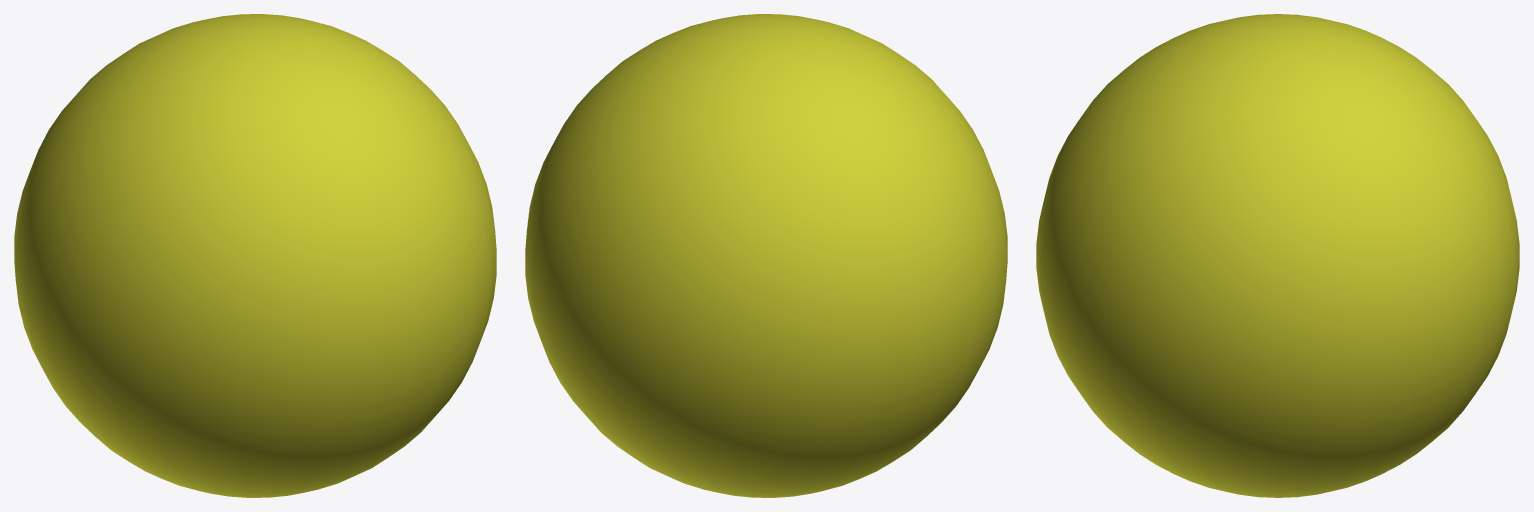
The model's file is sphere_smooth_origin.obj.
The picture shows the model from 3 angles, left to right: view 1: azimuth 30°, elevation 25°; view 2: azimuth 150°, elevation 25°; view 3: azimuth 270°, elevation 25°; orthographic projection.
Parts seen in each view (by area): view 1: Sphere_Sphere.001; view 2: Sphere_Sphere.001; view 3: Sphere_Sphere.001.
Part boxes in pixels (left/top/right/bottom): Sphere_Sphere.001: left=14, top=14, right=496, bottom=497; Sphere_Sphere.001: left=525, top=14, right=1007, bottom=497; Sphere_Sphere.001: left=1036, top=14, right=1519, bottom=497.
Bounding box in the file's own units: 2 × 2 × 2.
